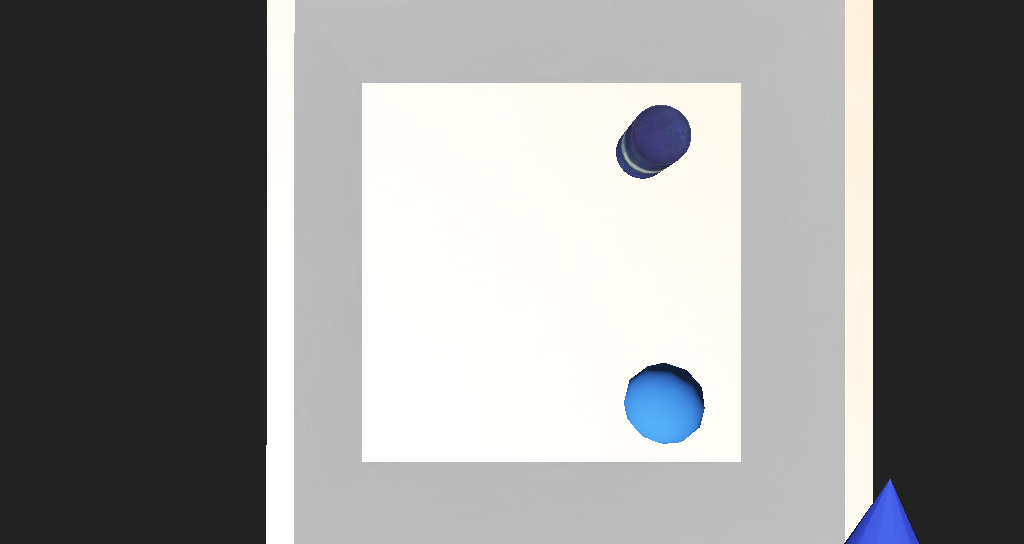cone: (563, 177, 610, 215)
cylinder: (664, 358, 805, 453)
sphere: (559, 322, 627, 365)
